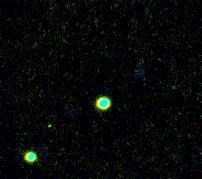star: (153, 70, 183, 100)
